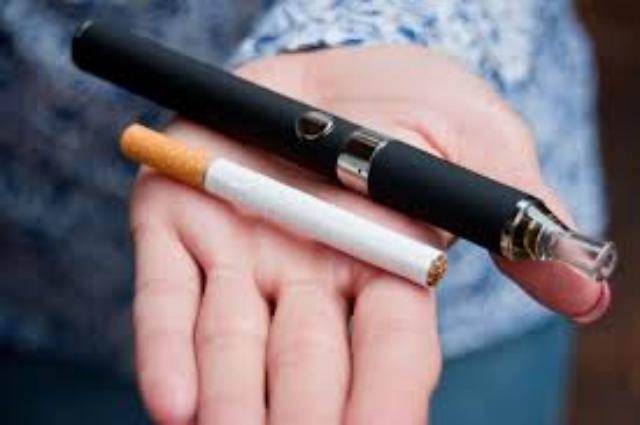Smoking: (120, 124, 448, 290)
